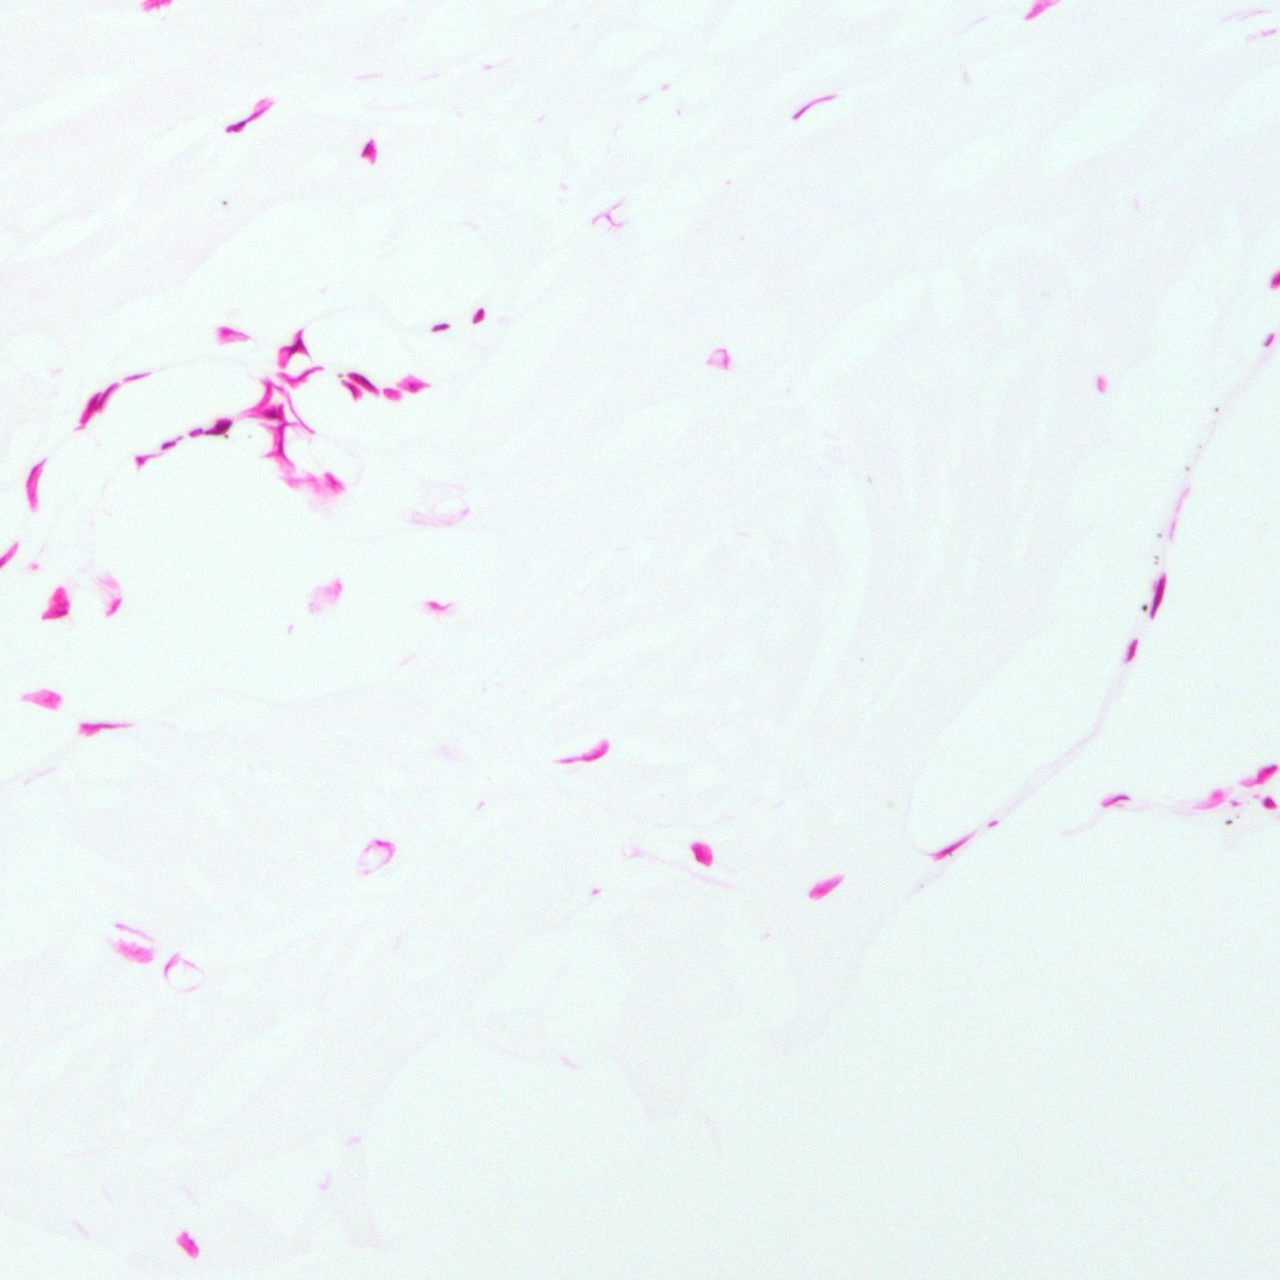nucleus-FG: (686, 835, 721, 871), (1146, 571, 1171, 622), (345, 367, 383, 399), (42, 585, 70, 619), (200, 414, 236, 440), (358, 135, 386, 166), (336, 376, 366, 402), (1122, 635, 1141, 663), (470, 304, 490, 327), (428, 320, 452, 334)
